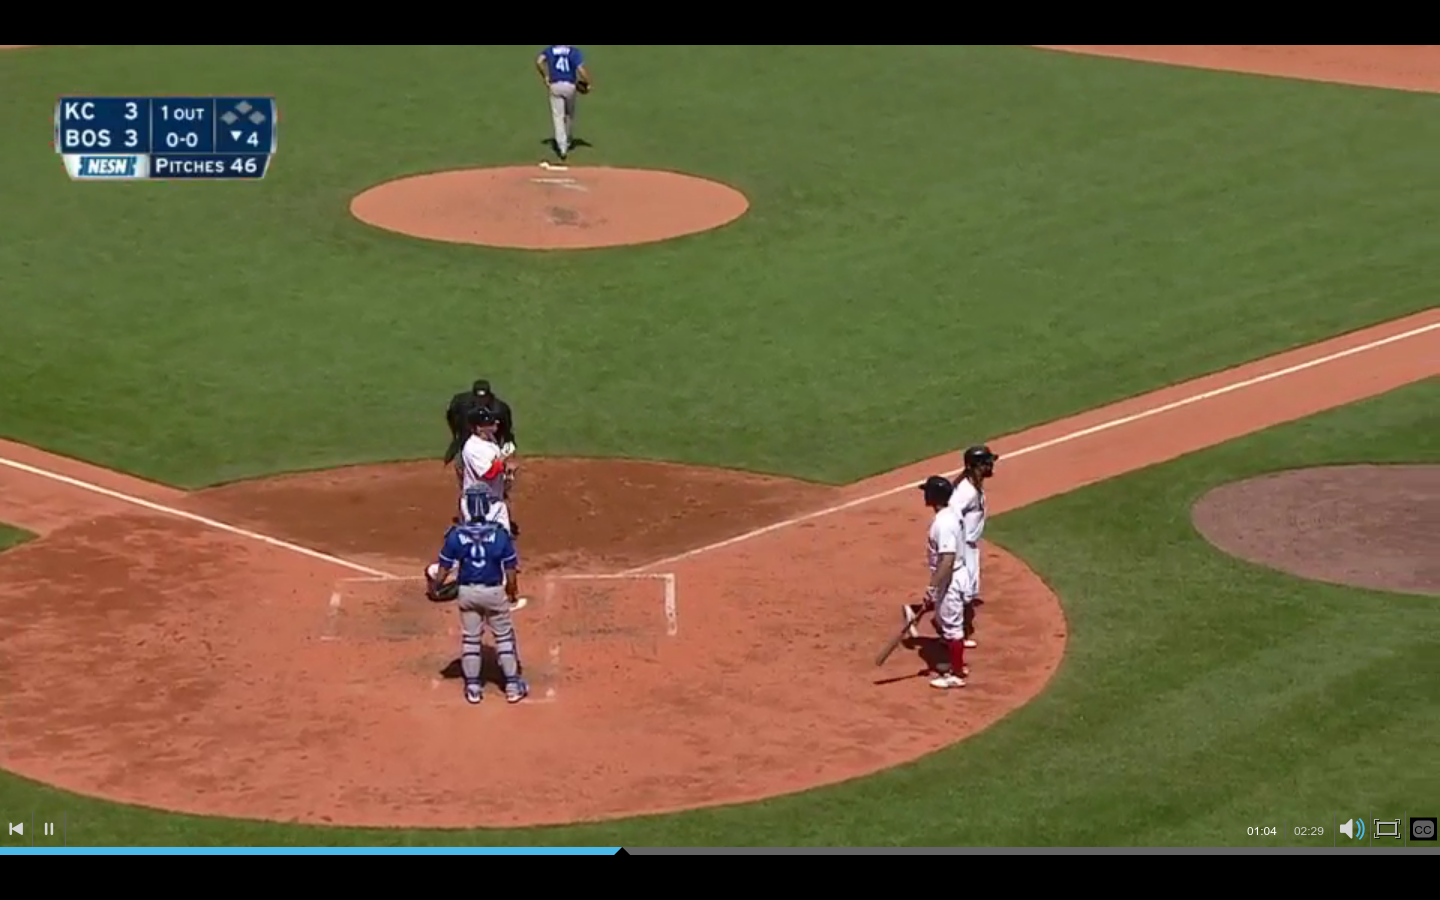baseball bat: (872, 602, 932, 668)
baseball player: (433, 489, 522, 709), (922, 472, 964, 692), (961, 440, 1002, 646), (452, 416, 522, 525), (536, 48, 588, 160)
referee: (444, 371, 518, 445)
